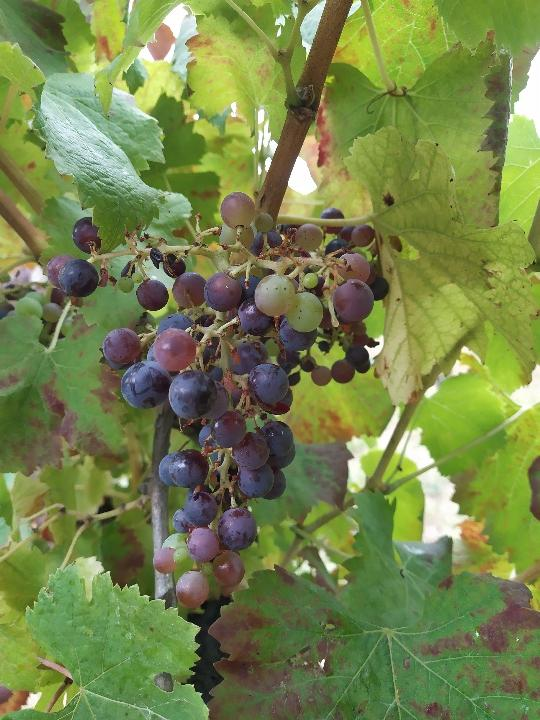grape: (44, 191, 393, 612)
